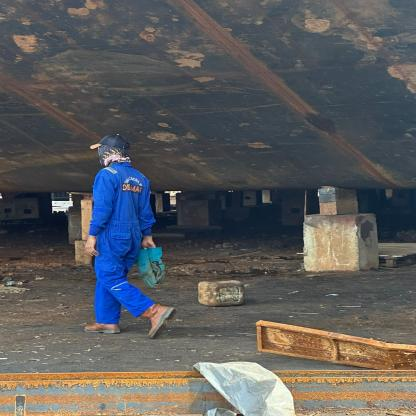bota: (137, 302, 175, 338), (84, 320, 122, 334)
